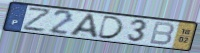2: (48, 8, 77, 36)
3: (126, 19, 149, 43)
A: (67, 13, 100, 40)
B: (148, 21, 176, 46)
D: (96, 15, 125, 40)
Z: (22, 7, 53, 33)
